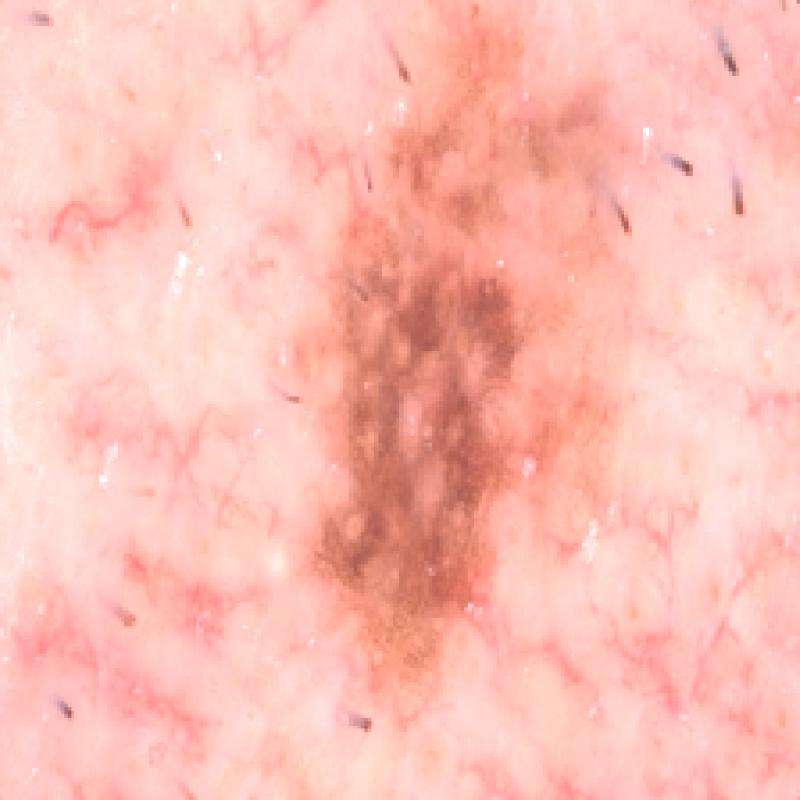malignant: (255, 18, 620, 757)
